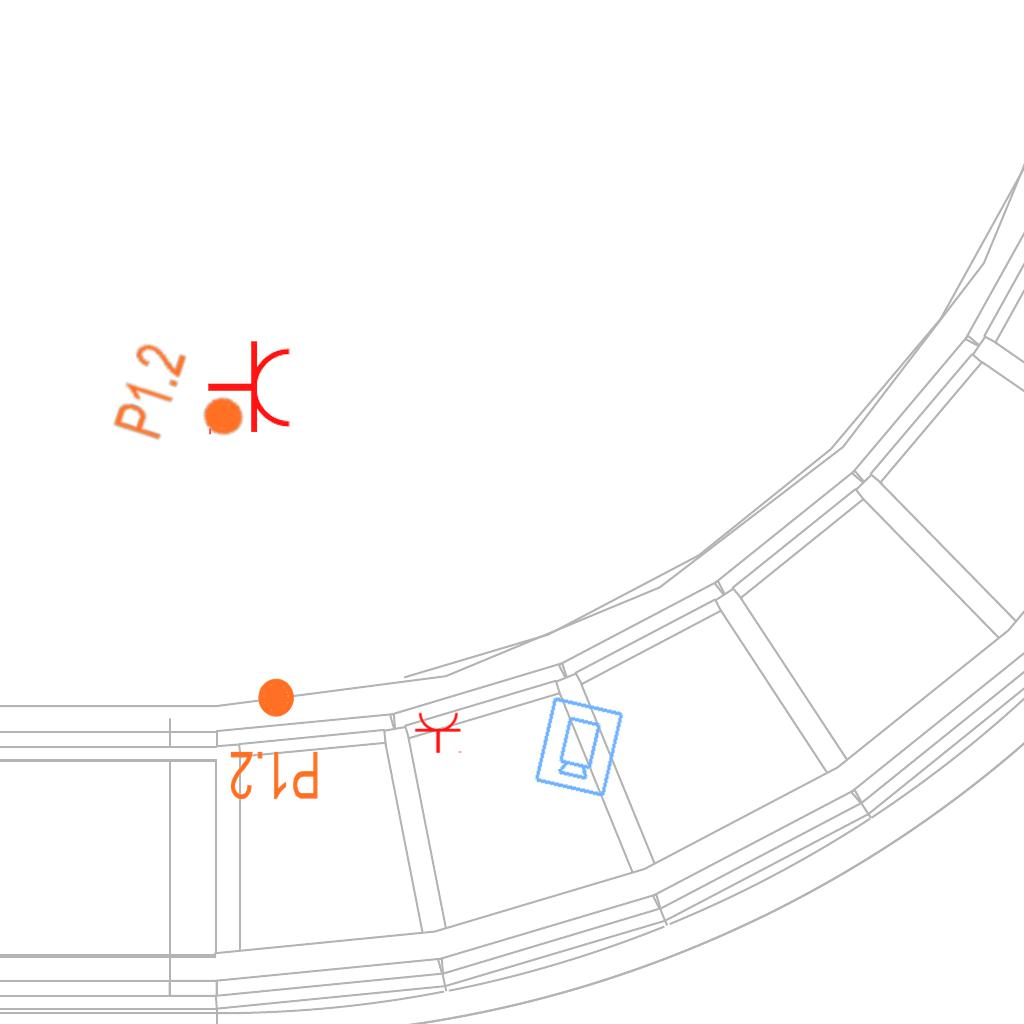Downlight_LED_Einbauleuchten_Flur: (109, 337, 260, 467), (228, 675, 321, 803)
KFO_Kamera_mit_Festobjektiv: (530, 693, 627, 800)
Schukosteckdose_einfach: (206, 339, 293, 439), (414, 711, 464, 754)
